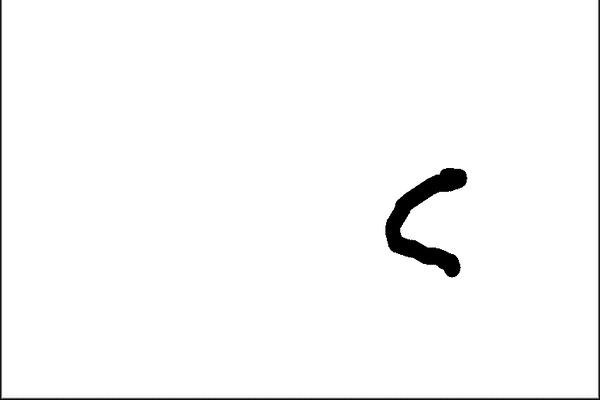C: (379, 162, 474, 282)
